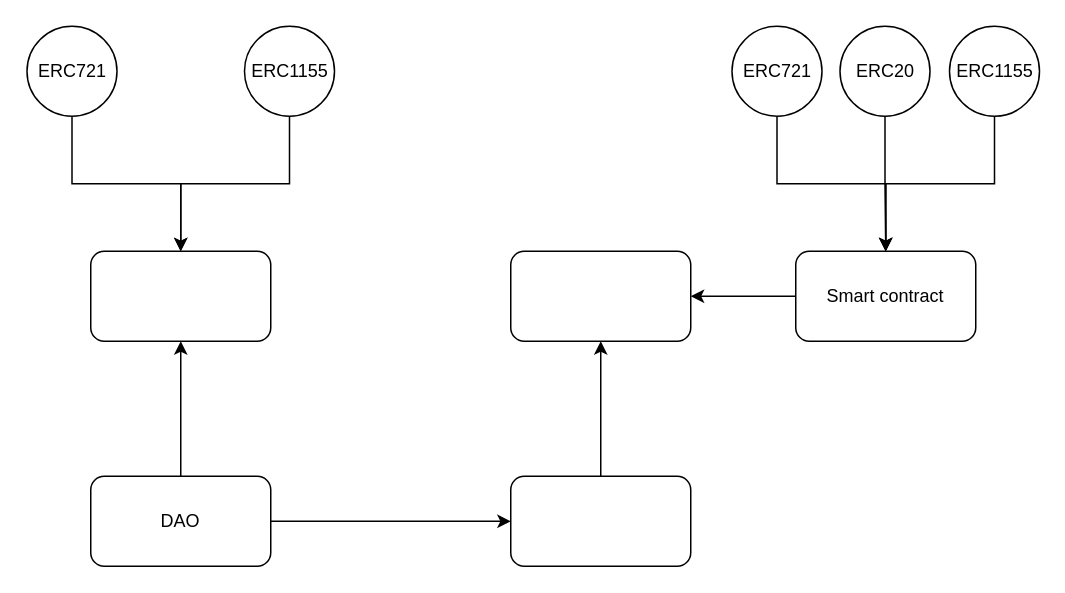
Image size: 1065x593. Some labels were removed from this diagram. Each missing label, with the centre of its shape:
"Access control" goes at point 600,520.
"Asset Vault" goes at point 180,295.
"Wallet" goes at point 600,295.
